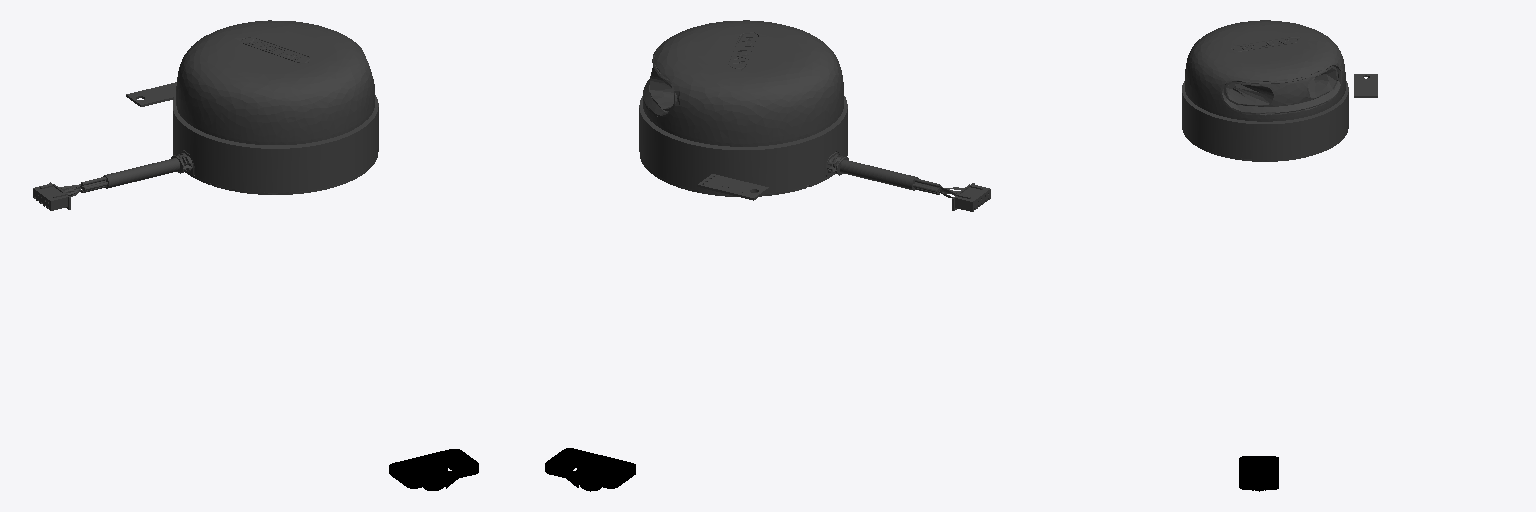
The robot description file, URDF, robot "rastreator":
<?xml version="1.0" ?>
<!-- =================================================================================== -->
<!-- |    This document was autogenerated by xacro from rastreator_csicam.xacro        | -->
<!-- |    EDITING THIS FILE BY HAND IS NOT RECOMMENDED                                 | -->
<!-- =================================================================================== -->
<robot name="rastreator" xmlns:xacro="http://www.ros.org/wiki/xacro">
  <!--**************************************************************-->
  <!--MATERIAL COLOUR-->
  <!--**************************************************************-->
  <material name="dark">
    <color rgba="0.3 0.3 0.3 1.0"/>
  </material>
  <material name="black">
    <color rgba="0.0 0.0 0.0 1.0"/>
  </material>
  <material name="light_black">
    <color rgba="0.4 0.4 0.4 1.0"/>
  </material>
  <!--**************************************************************-->
  <!--DUUMY LINK-->
  <!--**************************************************************-->
  <link name="base_footprint"/>
  <!--**************************************************************-->
  <!--CHASSIS (base link)-->
  <!--**************************************************************-->
  <link name="base_link">
    <inertial>
      <mass value="2.0"/>
      <inertia ixx="0.009354833333333335" ixy="0.0" ixz="0.0" iyy="0.006048833333333333" iyz="0.0" izz="0.010027333333333334"/>
    </inertial>
    <!--COLLISION-->
    <collision>
      <geometry>
        <mesh filename="package://rastreator_description/mesh/rastreator_chassis.stl" scale="0.001 0.001 0.001"/>
      </geometry>
    </collision>
    <!--VISUAL-->
    <visual>
      <geometry>
        <mesh filename="package://rastreator_description/mesh/rastreator_chassis.stl" scale="0.001 0.001 0.001"/>
      </geometry>
      <material name="light_black"/>
    </visual>
  </link>
  <!--JOINT-->
  <joint name="base_joint" type="fixed">
    <origin rpy="0 0 0" xyz="0.0 0.0 0.0205"/>
    <parent link="base_footprint"/>
    <child link="base_link"/>
  </joint>
  <!--**************************************************************-->
  <!--LEFT WHEEL-->
  <!--**************************************************************-->
  <link name="left_wheel_link">
    <inertial>
      <mass value="0.3"/>
      <inertia ixx="8.731875e-05" ixy="0" ixz="0" iyy="8.731875e-05" iyz="0" izz="0.0001584375"/>
    </inertial>
    <!--COLLISION-->
    <collision>
      <geometry>
        <mesh filename="package://rastreator_description/mesh/rastreator_left_wheel.stl" scale="0.001 0.001 0.001"/>
      </geometry>
    </collision>
    <!--VISUAL-->
    <visual>
      <geometry>
        <mesh filename="package://rastreator_description/mesh/rastreator_left_wheel.stl" scale="0.001 0.001 0.001"/>
      </geometry>
      <material name="black"/>
    </visual>
  </link>
  <!--JOINT-->
  <joint name="wheel_left_joint" type="continuous">
    <origin rpy="0 0 0" xyz="-0.042 0.078 0.012"/>
    <child link="left_wheel_link"/>
    <parent link="base_link"/>
    <axis rpy="0 0 0" xyz="0 1 0"/>
  </joint>
  <!--**************************************************************-->
  <!--RIGHT WHEEL-->
  <!--**************************************************************-->
  <link name="right_wheel_link">
    <inertial>
      <mass value="0.3"/>
      <inertia ixx="8.731875e-05" ixy="0" ixz="0" iyy="8.731875e-05" iyz="0" izz="0.0001584375"/>
    </inertial>
    <!--COLLISION-->
    <collision>
      <geometry>
        <mesh filename="package://rastreator_description/mesh/rastreator_right_wheel.stl" scale="0.001 0.001 0.001"/>
      </geometry>
    </collision>
    <!--VISUAL-->
    <visual>
      <geometry>
        <mesh filename="package://rastreator_description/mesh/rastreator_right_wheel.stl" scale="0.001 0.001 0.001"/>
      </geometry>
      <material name="black"/>
    </visual>
  </link>
  <!--JOINT-->
  <joint name="wheel_right_joint" type="continuous">
    <origin rpy="0 0 0" xyz="-0.045 -0.08 0.012"/>
    <child link="right_wheel_link"/>
    <parent link="base_link"/>
    <axis rpy="0 0 0" xyz="0 1 0"/>
  </joint>
  <!--**************************************************************-->
  <!--CASTER WHEEL (NOT VISUAL)-->
  <!--**************************************************************-->
  <link name="caster_front_link">
    <!--INERTIA-->
    <!--Not calling macro, just small values-->
    <inertial>
      <mass value="0.005"/>
      <inertia ixx="0.001" ixy="0.0" ixz="0.0" iyy="0.001" iyz="0.0" izz="0.001"/>
    </inertial>
    <!--COLLISION-->
    <collision>
      <geometry>
        <mesh filename="package://rastreator_description/mesh/caster_wheel.stl" scale="0.001 0.001 0.001"/>
      </geometry>
    </collision>
    <!--VISUAL-->
    <visual>
      <geometry>
        <mesh filename="package://rastreator_description/mesh/caster_wheel.stl" scale="0.001 0.001 0.001"/>
      </geometry>
      <material name="black"/>
    </visual>
  </link>
  <!--JOINT-->
  <joint name="caster_front_joint" type="fixed">
    <parent link="base_link"/>
    <child link="caster_front_link"/>
    <origin rpy="0 0 0" xyz="0 0 0"/>
  </joint>
  <!--**************************************************************-->
  <!--LASER/LIDAR-->
  <!--**************************************************************-->
  <link name="lidar_link">
    <inertial>
      <inertia ixx="0.0" ixy="0.0" ixz="0.0" iyy="0.0" iyz="0.0" izz="0.0"/>
      <mass value="0.1"/>
    </inertial>
    <collision>
      <geometry>
        <mesh filename="package://rastreator_description/mesh/rplidar_a3.stl" scale="0.001 0.001 0.001"/>
      </geometry>
    </collision>
    <visual>
      <geometry>
        <mesh filename="package://rastreator_description/mesh/rplidar_a3.stl" scale="0.001 0.001 0.001"/>
      </geometry>
      <material name="dark"/>
    </visual>
  </link>
  <joint name="lidar_joint" type="fixed">
    <origin rpy="0 0.0 0" xyz="0.0 0.0 0.127"/>
    <child link="lidar_link"/>
    <parent link="base_link"/>
  </joint>
  <!--**************************************************************-->
  <!--CSI CAM-->
  <!--**************************************************************-->
  <link name="csicam_link"/>
  <joint name="camera_joint" type="fixed">
    <origin rpy="0 0 0" xyz="0.117 -0.014 0.112"/>
    <child link="csicam_link"/>
    <parent link="base_link"/>
  </joint>
  <!--**************************************************************-->
  <!--IMU-->
  <!--**************************************************************-->
  <link name="imu_link">
    <!--INERTIA-->
    <inertial>
      <inertia ixx="0.001" ixy="0.0" ixz="0.0" iyy="0.001" iyz="0.0" izz="0.001"/>
      <mass value="0.01"/>
    </inertial>
    <!--COLLISION-->
    <collision>
      <geometry>
        <mesh filename="package://rastreator_description/mesh/imu.stl" scale="0.001 0.001 0.001"/>
      </geometry>
    </collision>
    <gravity>false</gravity>
    <!--VISUAL-->
    <visual>
      <geometry>
        <mesh filename="package://rastreator_description/mesh/imu.stl" scale="0.001 0.001 0.001"/>
      </geometry>
      <material name="dark"/>
    </visual>
  </link>
  <!--JOINT-->
  <joint name="sensor_imu_joint" type="fixed">
    <origin rpy="0 0.0 0" xyz="0.0 0.0 0"/>
    <child link="imu_link"/>
    <parent link="base_link"/>
  </joint>
  <!--**************************************************************-->
  <!--                    GAZEBO                                    -->
  <!--**************************************************************-->
  <gazebo reference="base_link">
    <material>Gazebo/DarkGrey</material>
  </gazebo>
  <gazebo reference="imu_link">
    <material>Gazebo/FlatBlack</material>
  </gazebo>
  <gazebo reference="left_wheel_link">
    <material>Gazebo/FlatBlack</material>
    <mu1>0.9</mu1>
    <mu2>0.9</mu2>
    <kp>500000.0</kp>
    <kd>10.0</kd>
    <minDepth>0.001</minDepth>
    <maxVel>0.1</maxVel>
    <fdir1>1 0 0</fdir1>
  </gazebo>
  <gazebo reference="right_wheel_link">
    <material>Gazebo/FlatBlack</material>
    <mu1>0.9</mu1>
    <mu2>0.9</mu2>
    <kp>500000.0</kp>
    <kd>10.0</kd>
    <minDepth>0.001</minDepth>
    <maxVel>0.1</maxVel>
    <fdir1>1 0 0</fdir1>
  </gazebo>
  <gazebo reference="caster_front_link">
    <material>Gazebo/FlatBlack</material>
    <mu1>0.1</mu1>
    <mu2>0.1</mu2>
    <kp>1000000.0</kp>
    <kd>10.0</kd>
    <minDepth>0.001</minDepth>
    <maxVel>1.0</maxVel>
  </gazebo>
  <gazebo reference="csicam_link">
    <material>Gazebo/FlatBlack</material>
  </gazebo>
  <!--======= GAZEBO PLUGINS ===========-->
  <gazebo>
    <!--JOINT_STATES-->
    <plugin filename="libgazebo_ros_joint_state_publisher.so" name="plugin_joint_state">
      <ros>
        <!--<namespace>/sim</namespace>-->
        <argument>--ros-args --remap ~/out:=joint_states</argument>
      </ros>
      <update_rate>30</update_rate>
      <joint_name>wheel_left_joint</joint_name>
      <joint_name>wheel_right_joint</joint_name>
    </plugin>
    <!--DIFFERENTIAL DRIVE-->
    <plugin filename="libgazebo_ros_diff_drive.so" name="plugin_diff_drive">
      <ros>
        <!--<namespace>/sim</namespace>
          <argument>ros-args remap cmd_vel:=/sim/cmd_vel</argument>
          <argument>ros-args remap odom:=/sim/odom</argument>
          -->
      </ros>
      <update_rate>30</update_rate>
      <left_joint>wheel_left_joint</left_joint>
      <right_joint>wheel_right_joint</right_joint>
      <wheel_separation>0.16</wheel_separation>
      <wheel_diameter>0.065</wheel_diameter>
      <max_wheel_torque>10</max_wheel_torque>
      <max_wheel_acceleration>1.0</max_wheel_acceleration>
      <command_topic>cmd_vel</command_topic>
      <publish_odom>true</publish_odom>
      <publish_odom_tf>true</publish_odom_tf>
      <publish_wheel_tf>true</publish_wheel_tf>
      <odometry_topic>odom</odometry_topic>
      <odometry_frame>odom</odometry_frame>
      <robot_base_frame>base_footprint</robot_base_frame>
    </plugin>
    <plugin filename="libgazebo_ros_p3d.so" name="gazebo_ros_p3d">
      <ros>
        <!-- Add namespace and remap the default topic 
          <namespace>/sim</namespace>
          <argument>odom:=p3d_demo</argument>
          -->
      </ros>
      <!-- Replace camelCase elements with camel_case ones -->
      <body_name>base_footprint</body_name>
      <frame_name>base_footprint</frame_name>
      <update_rate>30</update_rate>
      <xyz_offsets>0 0 0</xyz_offsets>
      <rpy_offsets>0 0 0</rpy_offsets>
      <gaussian_noise>0</gaussian_noise>
    </plugin>
  </gazebo>
  <!--lidar-->
  <gazebo reference="lidar_link">
    <material>Gazebo/FlatBlack</material>
    <inertial>
      <inertia>
        <ixx>0.001</ixx>
        <ixy>0.000</ixy>
        <ixz>0.000</ixz>
        <iyy>0.001</iyy>
        <iyz>0.000</iyz>
        <izz>0.001</izz>
      </inertia>
      <mass>0.125</mass>
    </inertial>
    <collision name="lidar_link_sensor_collision">
      <geometry>
        <cylinder>
          <radius>0.0508</radius>
          <length>0.055</length>
        </cylinder>
      </geometry>
    </collision>
    <visual name="lidar_link_sensor_visual">
      <geometry>
        <mesh>
          <uri>model://rastreator_description/mesh/rplidar_a3.stl</uri>
          <scale>0.001 0.001 0.001</scale>
        </mesh>
      </geometry>
    </visual>
    <sensor name="lidar_plugin" type="ray">
      <always_on>false</always_on>
      <visualize>false</visualize>
      <update_rate>30</update_rate>
      <ray>
        <scan>
          <horizontal>
            <samples>360</samples>
            <resolution>1.000000</resolution>
            <min_angle>0.000000</min_angle>
            <max_angle>6.280000</max_angle>
          </horizontal>
        </scan>
        <range>
          <min>0.120000</min>
          <max>3.5</max>
          <resolution>0.015000</resolution>
        </range>
        <noise>
          <type>gaussian</type>
          <mean>0.0</mean>
          <stddev>0.01</stddev>
        </noise>
      </ray>
      <plugin filename="libgazebo_ros_ray_sensor.so" name="plugin_lidar">
        <ros>
          <argument>~/out:=scan</argument>
        </ros>
        <output_type>sensor_msgs/LaserScan</output_type>
        <frame_name>lidar_link</frame_name>
      </plugin>
    </sensor>
  </gazebo>
</robot>

--- Facts derived from the render (not from the file) ---
3 views of the same robot in one strip: view 1: azimuth 30°, elevation 25°; view 2: azimuth 150°, elevation 25°; view 3: azimuth 270°, elevation 25° (orthographic).
Model rastreator with 8 links and 7 joints (2 continuous, 5 fixed), rooted at base_footprint, posed all joints at 0.
Visible links, largest first — view 1: lidar_link, caster_front_link, imu_link; view 2: lidar_link, caster_front_link, imu_link; view 3: lidar_link, caster_front_link, imu_link.
Link boxes in pixels (<box>): lidar_link: <box>33,20,378,210</box>; caster_front_link: <box>389,449,478,490</box>; imu_link: <box>126,82,176,106</box>; lidar_link: <box>639,20,990,211</box>; caster_front_link: <box>545,448,635,491</box>; imu_link: <box>697,174,768,200</box>; lidar_link: <box>1182,20,1348,161</box>; caster_front_link: <box>1239,456,1278,491</box>; imu_link: <box>1354,74,1377,97</box>.
Bounding box of the posed robot: 0.1788 × 0.0882 × 0.1909 m (x, y, z).
3 mesh visuals loaded from 6 distinct referenced files (3 binary STL); not drawn: 3 (reference not matched to a file when rendering).
